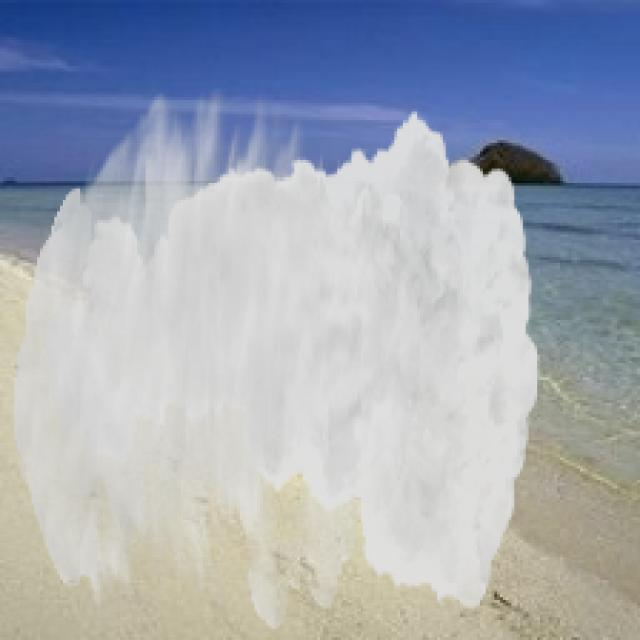Smoke: (14, 89, 540, 628)
